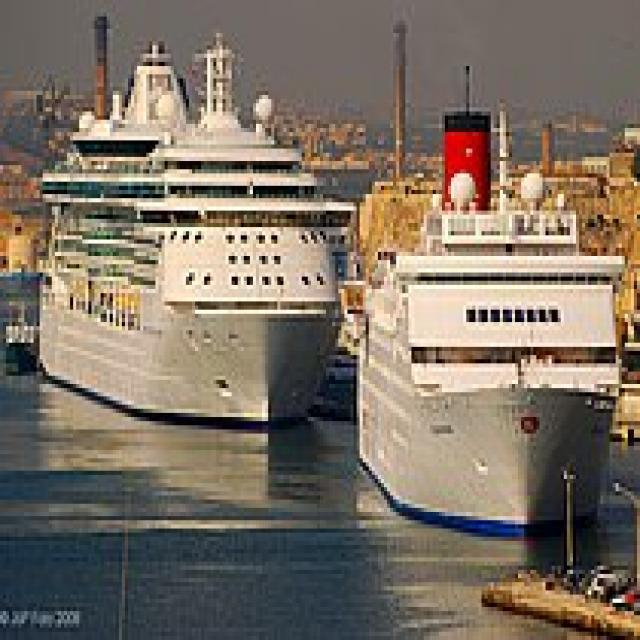Ship: (26, 1, 352, 439), (345, 171, 632, 559)
